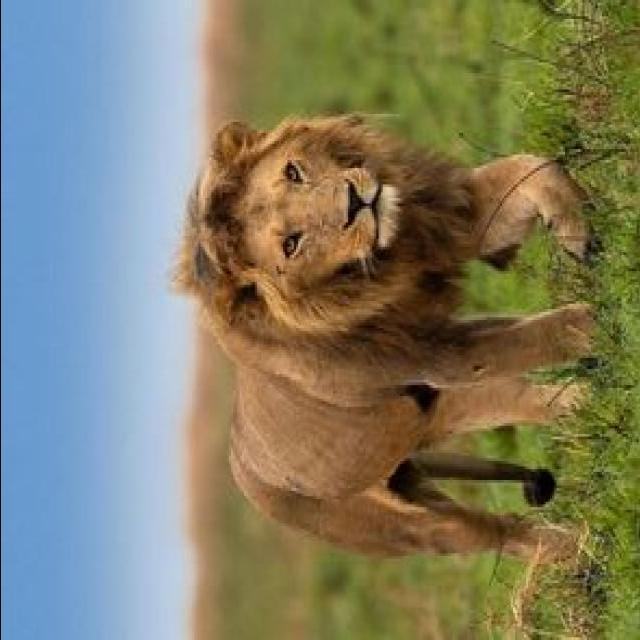lions: (170, 17, 640, 640)
